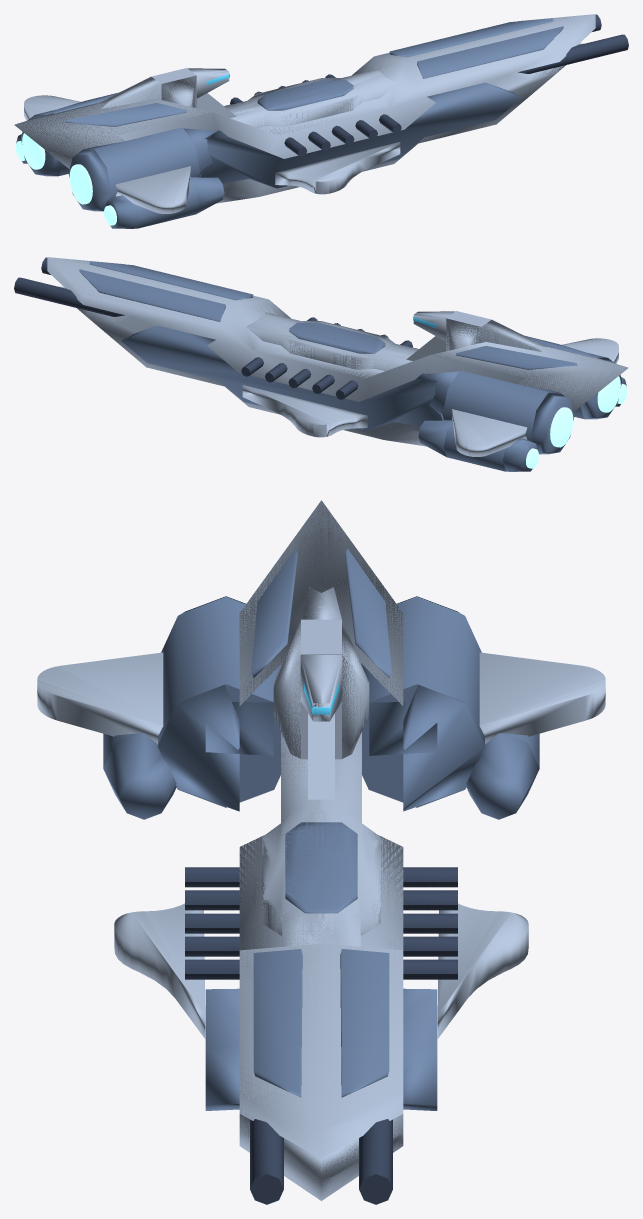
The model's file is broadside-ship_01.glb.
3 views of the same model, one above another, from view 1: azimuth 30°, elevation 25°; view 2: azimuth 150°, elevation 25°; view 3: azimuth 270°, elevation 25° (orthographic). The views are drawn at different scales.
Visible parts, largest first — view 1: hull, hullD, dark, engine; view 2: hull, hullD, dark, engine; view 3: hull, hullD, dark.
Boxes of the visible parts, box(x1,y1,x2,y2) form: hull: box(14, 14, 595, 213); hullD: box(16, 18, 563, 228); dark: box(230, 14, 628, 156); engine: box(15, 133, 116, 225); hull: box(47, 257, 628, 456); hullD: box(79, 261, 626, 471); dark: box(14, 257, 412, 399); engine: box(526, 376, 627, 468); hull: box(37, 500, 605, 1200); hullD: box(103, 548, 539, 1110); dark: box(185, 867, 457, 1204).
Size of the model in its own units: 12 by 2.62 by 4.95.
